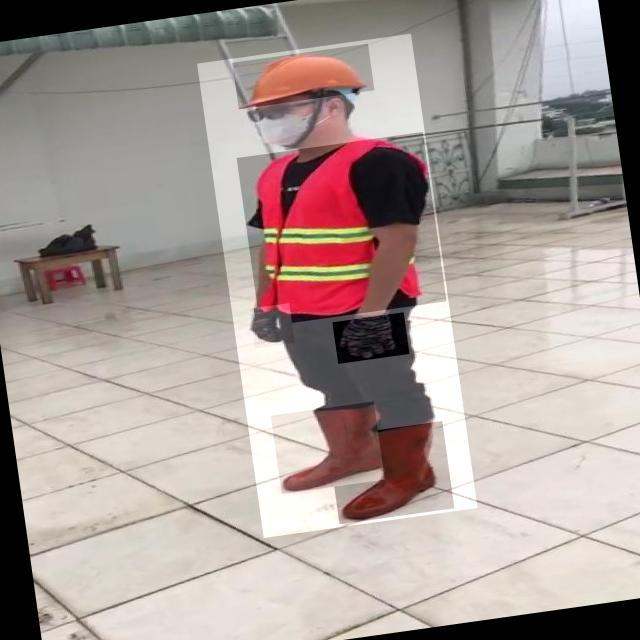Gloves: (333, 312, 410, 364), (250, 303, 295, 348)
Helmet: (233, 44, 376, 110)
Human: (198, 34, 478, 538)
Safety Boot: (328, 421, 455, 524), (271, 401, 385, 494)
Safety Vest: (237, 132, 447, 328)
